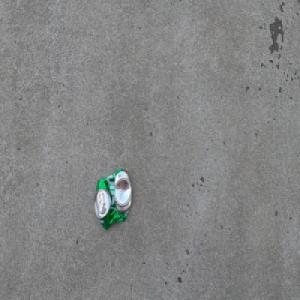SodaCan: (93, 168, 132, 231)
